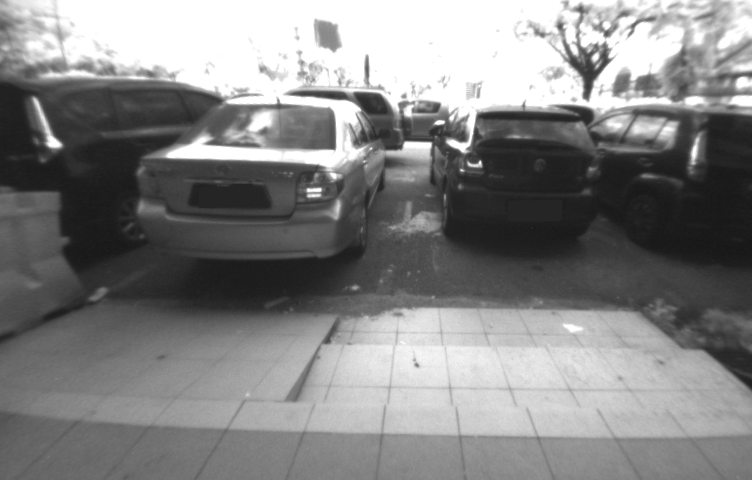down_steps: (293, 301, 746, 420)
mixed_gradient: (249, 302, 381, 416)
